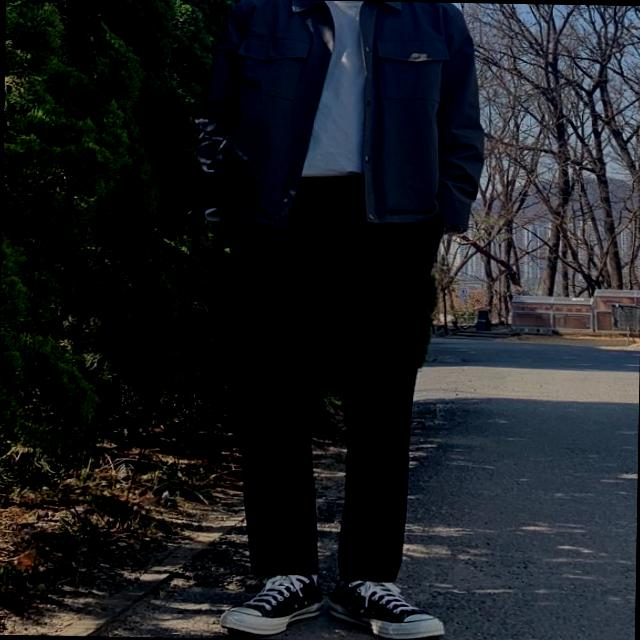jacket: (193, 0, 484, 234)
slacks: (222, 174, 449, 592)
